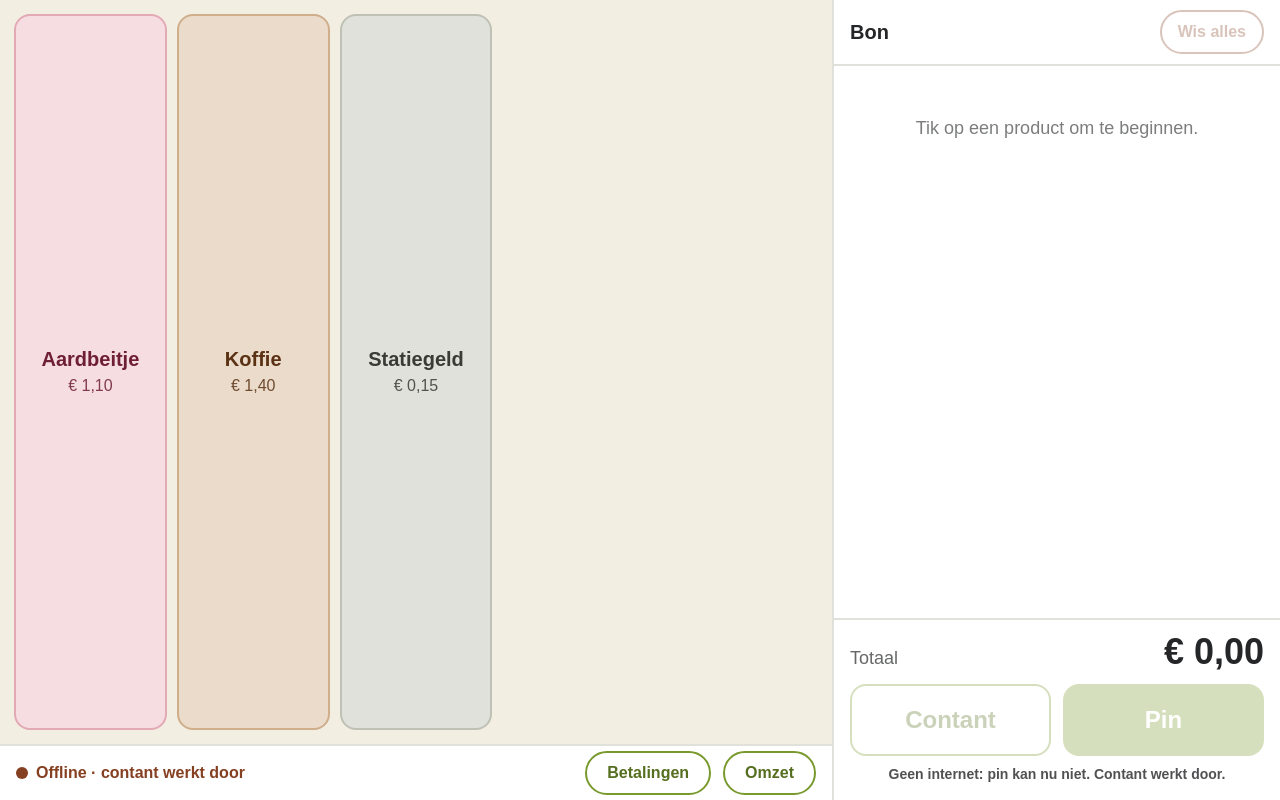
Test: queues a sale and does not offer to take it back on the kassa
Click the button "Aardbeitje € 1,10" at (90, 372), box top-left (14, 14), bottom-right (167, 730)
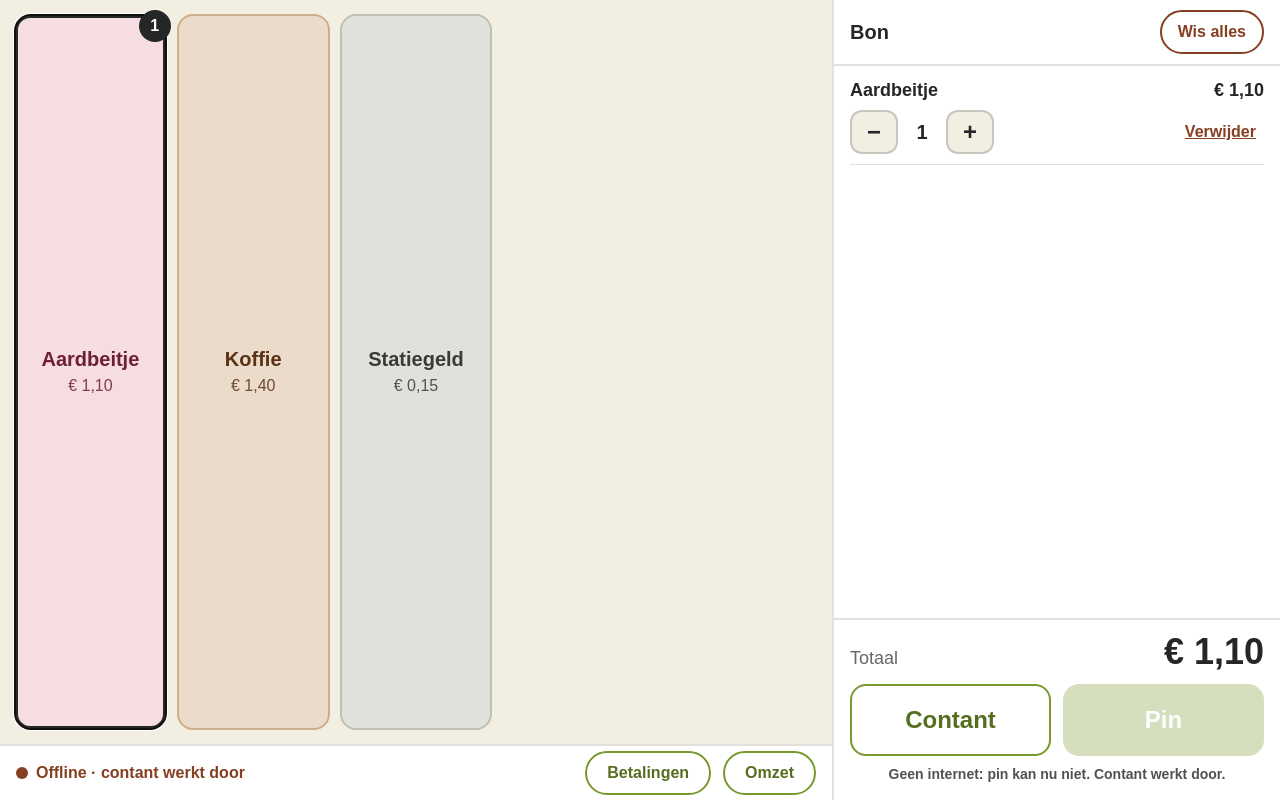
Click the button "Contant" at (950, 720), box top-left (850, 684), bottom-right (1051, 756)
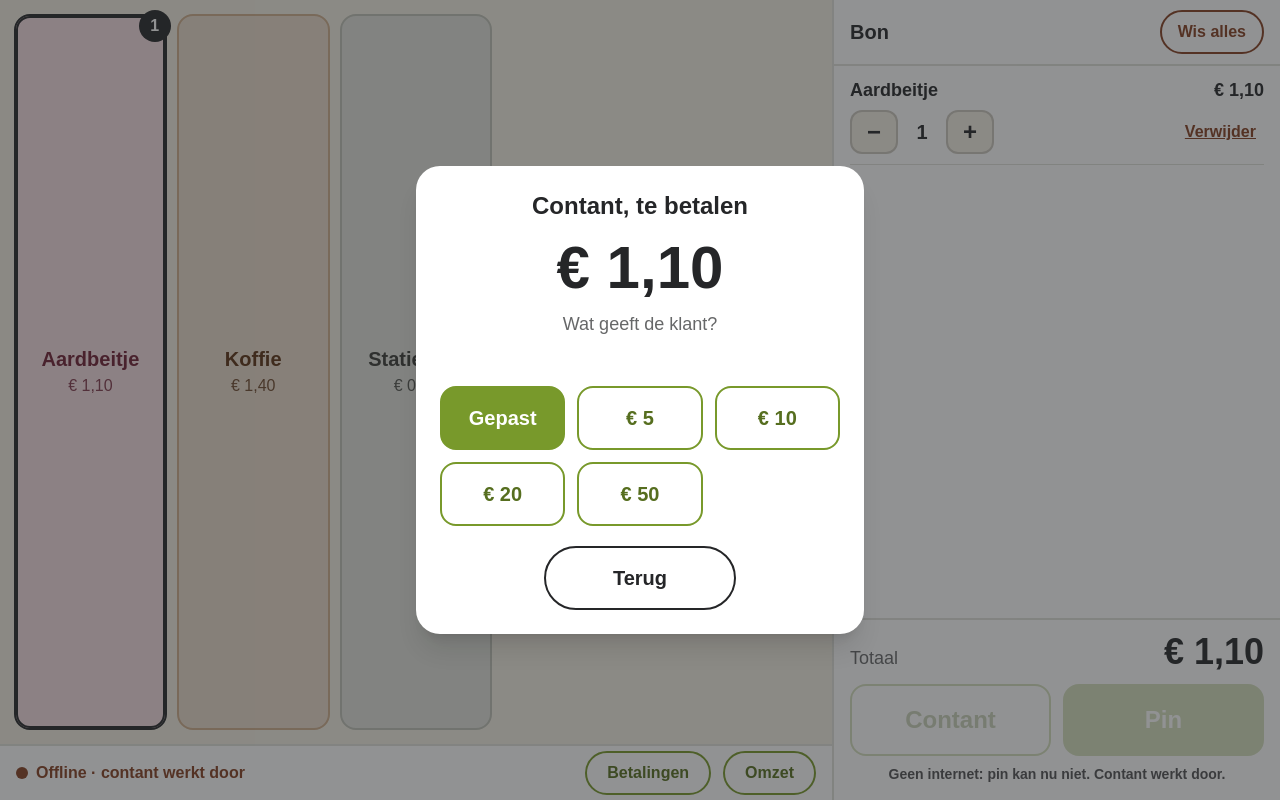
Click the button "Gepast" at (503, 418), box top-left (440, 386), bottom-right (565, 450)
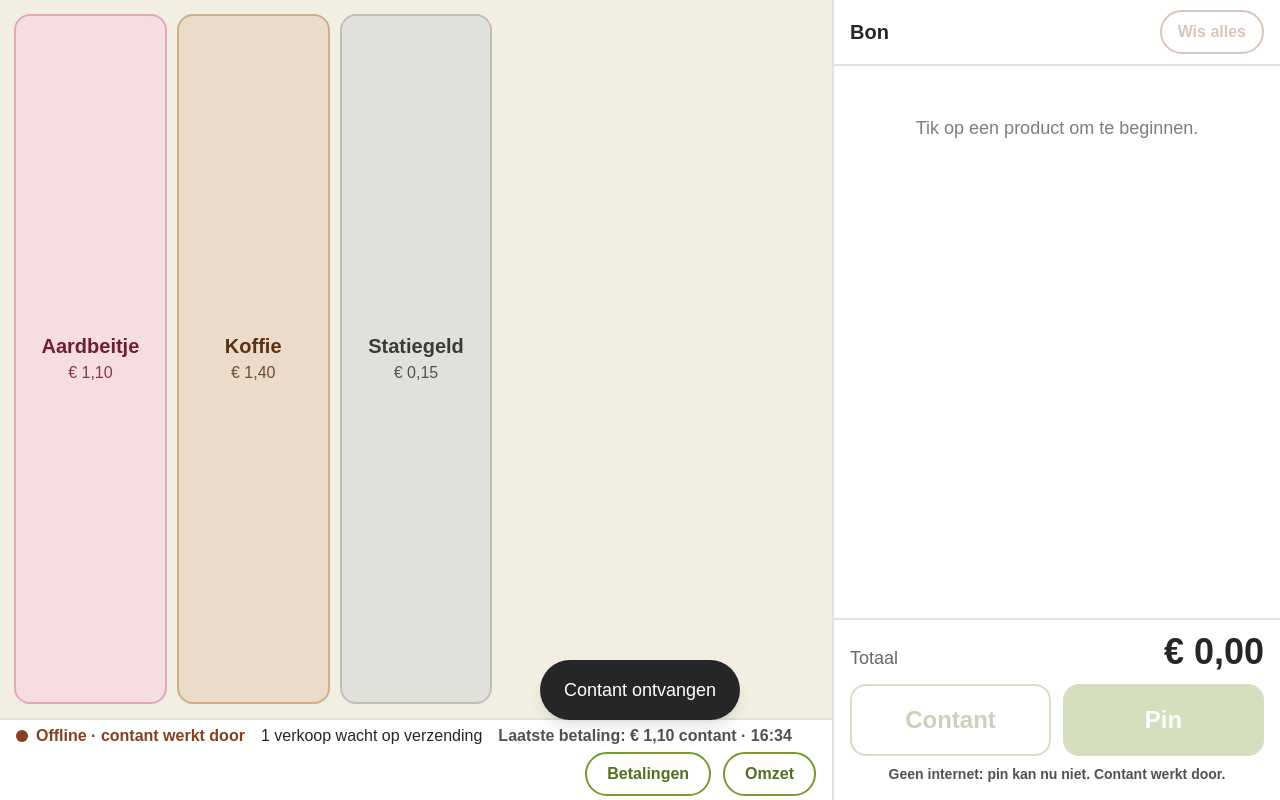
Expected: the text "1 verkoop wacht op verzending" is shown, top-left (261, 724), bottom-right (482, 748)
